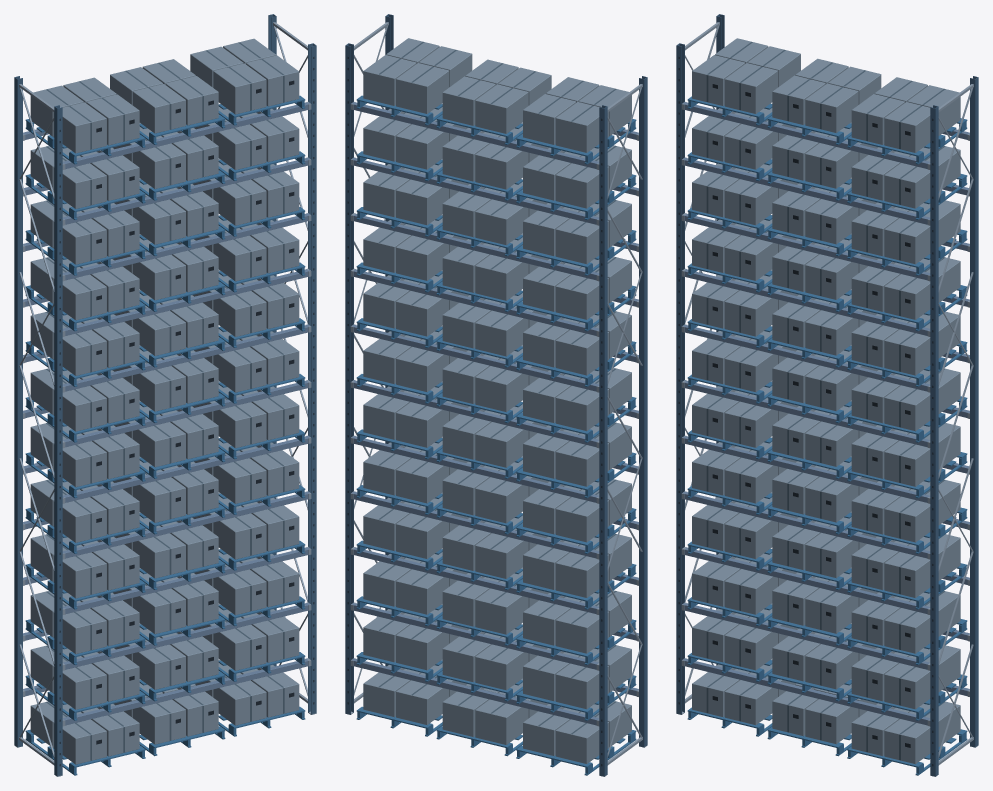
The model's file is SM_GHS_V2Rack_B_W37138_Capacity.fbx.
3 views of the same model, side by side, from view 1: azimuth 30°, elevation 25°; view 2: azimuth 150°, elevation 25°; view 3: azimuth 330°, elevation 25° (orthographic).
Visible parts, largest first — view 1: SM_GHS_V2Rack_B_W37138_Capacity; view 2: SM_GHS_V2Rack_B_W37138_Capacity; view 3: SM_GHS_V2Rack_B_W37138_Capacity.
Part boxes in pixels (x1=…): SM_GHS_V2Rack_B_W37138_Capacity: x1=14, y1=14, x2=316, y2=776; SM_GHS_V2Rack_B_W37138_Capacity: x1=345, y1=14, x2=647, y2=776; SM_GHS_V2Rack_B_W37138_Capacity: x1=676, y1=14, x2=978, y2=776.
Bounding box in the file's own units: 371 × 122 × 915.
